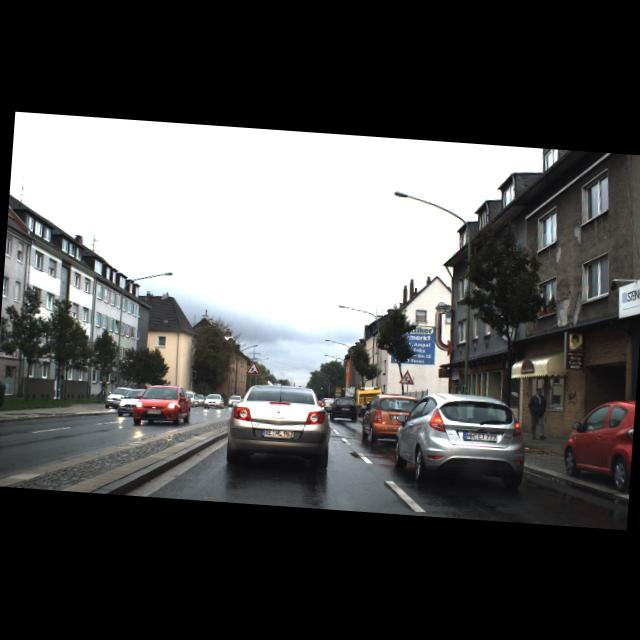danger: (398, 368, 415, 384), (244, 359, 260, 374)
